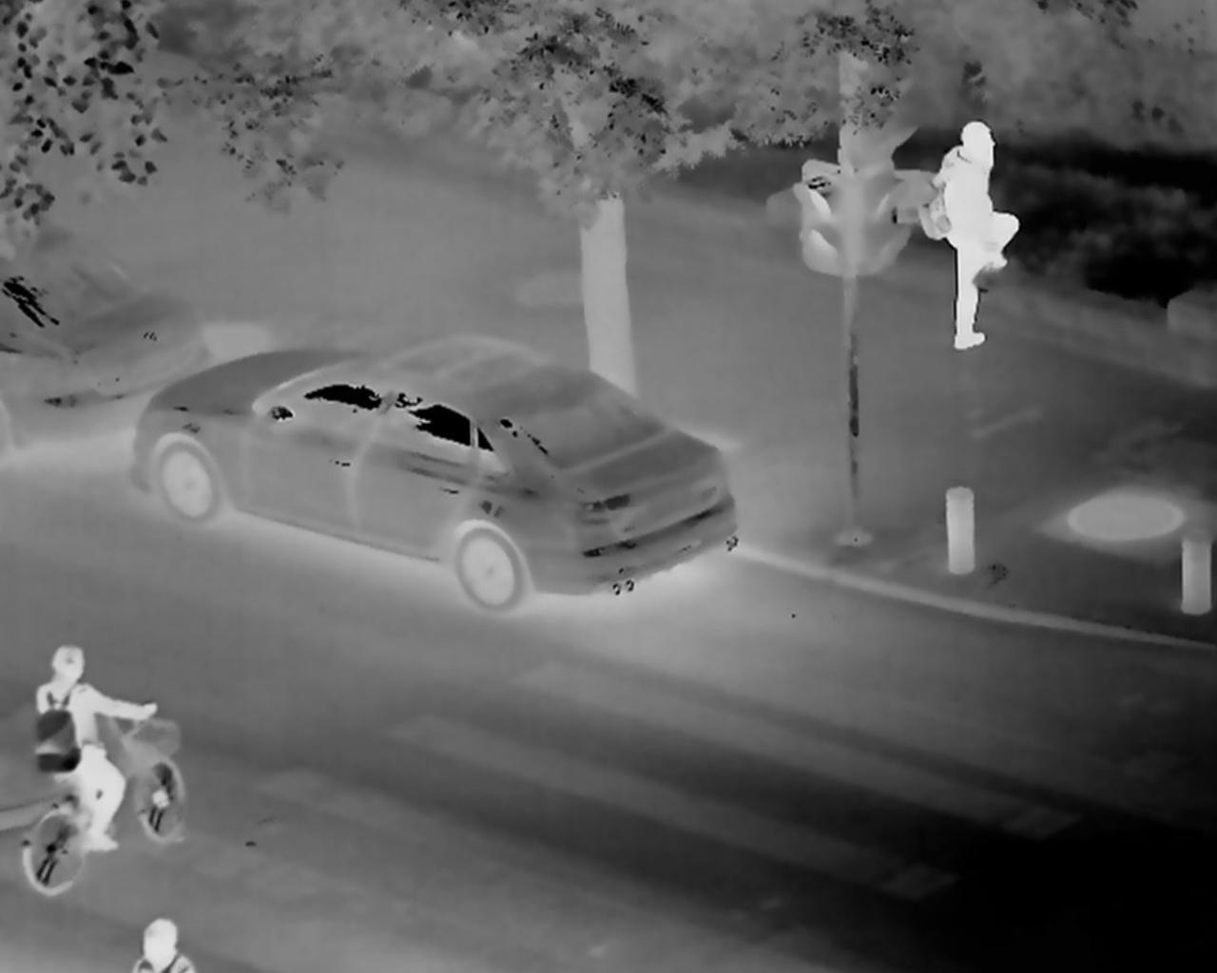person: (30, 636, 168, 884), (914, 111, 1024, 359), (131, 917, 192, 973)
